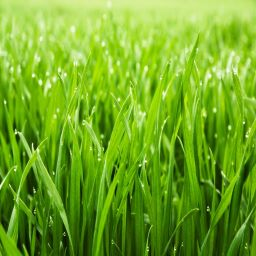grass: (0, 0, 252, 251)
